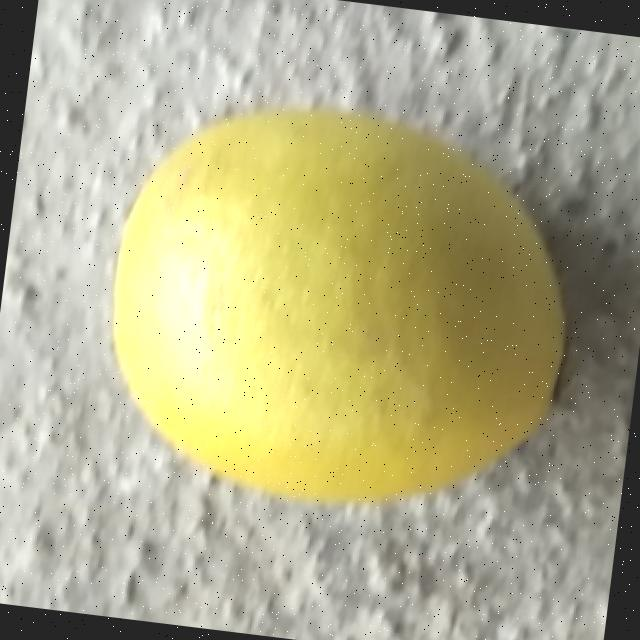Ripe: (84, 82, 591, 532)
